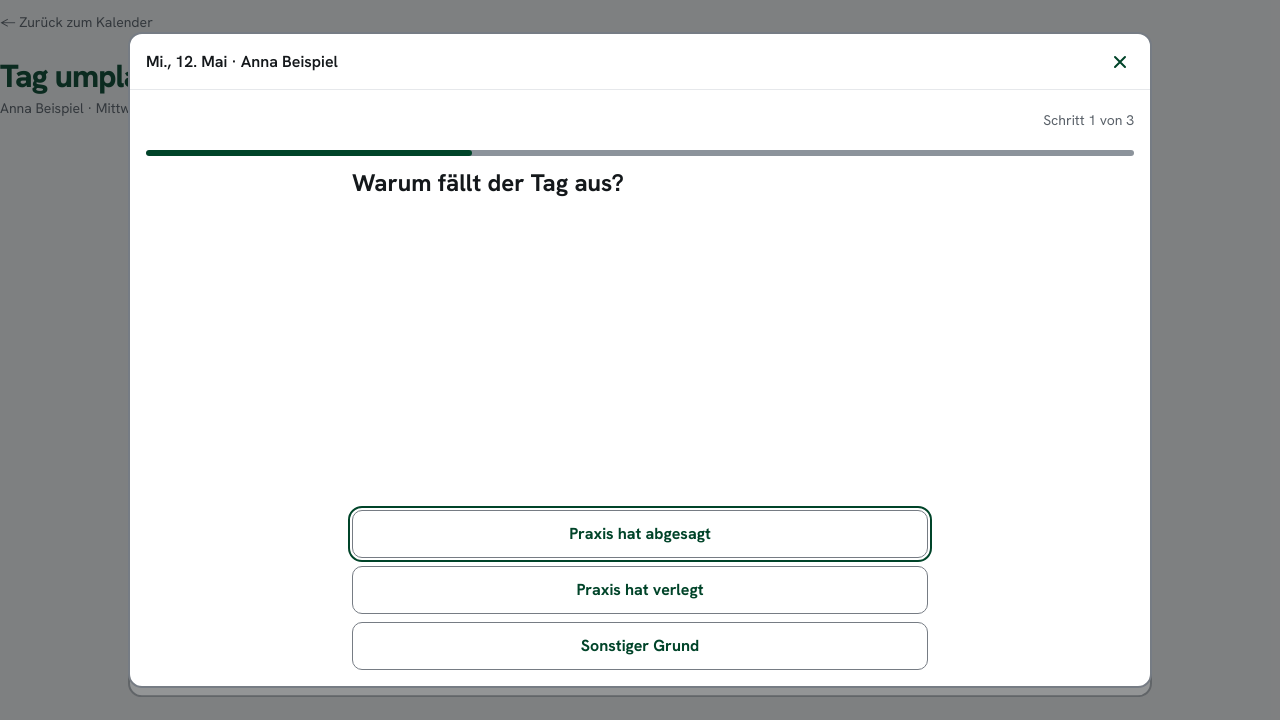
Test: TagUmplanenPage › wählt bei einer ungültigen Angabe der Zeiten den ganzen Tag vor
Click the button "Praxis hat abgesagt". click: (640, 534)
box: [352,510,928,558]
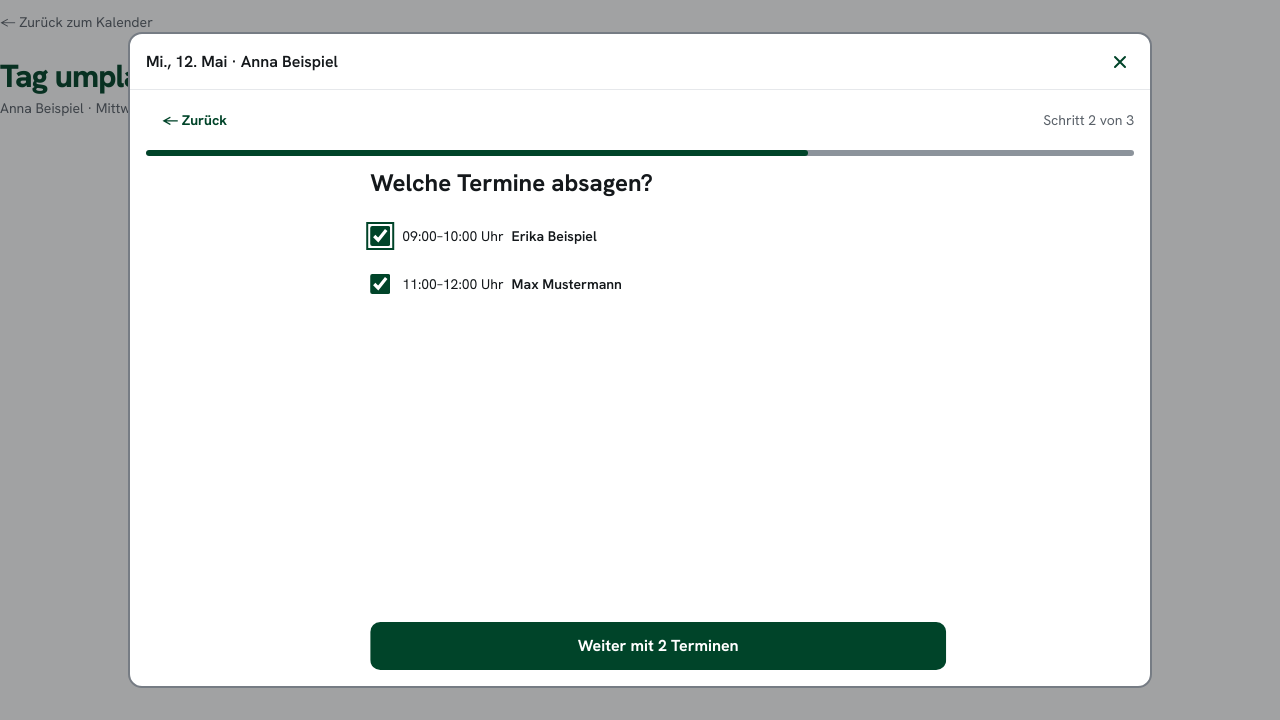
Now the checkbox labelled "09:00–10:00 Uhr Erika Beispiel" is checked, box [356,226,376,246]
Now the checkbox labelled "11:00–12:00 Uhr Max Mustermann" is checked, box [356,274,376,294]
